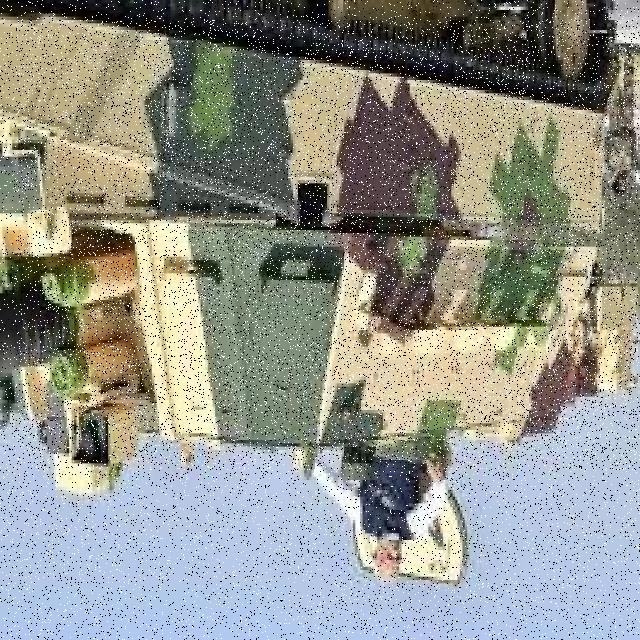MIL_MBT: (16, 20, 637, 470)
